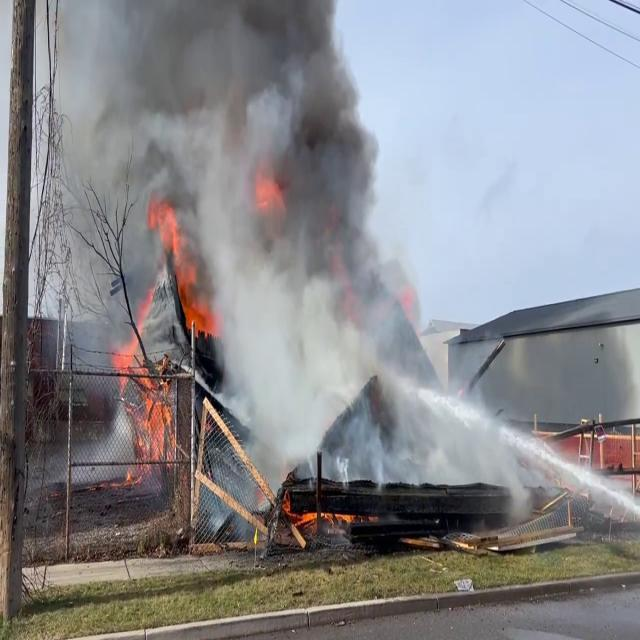Fire: (152, 188, 211, 334)
Smoke: (46, 0, 428, 448)
